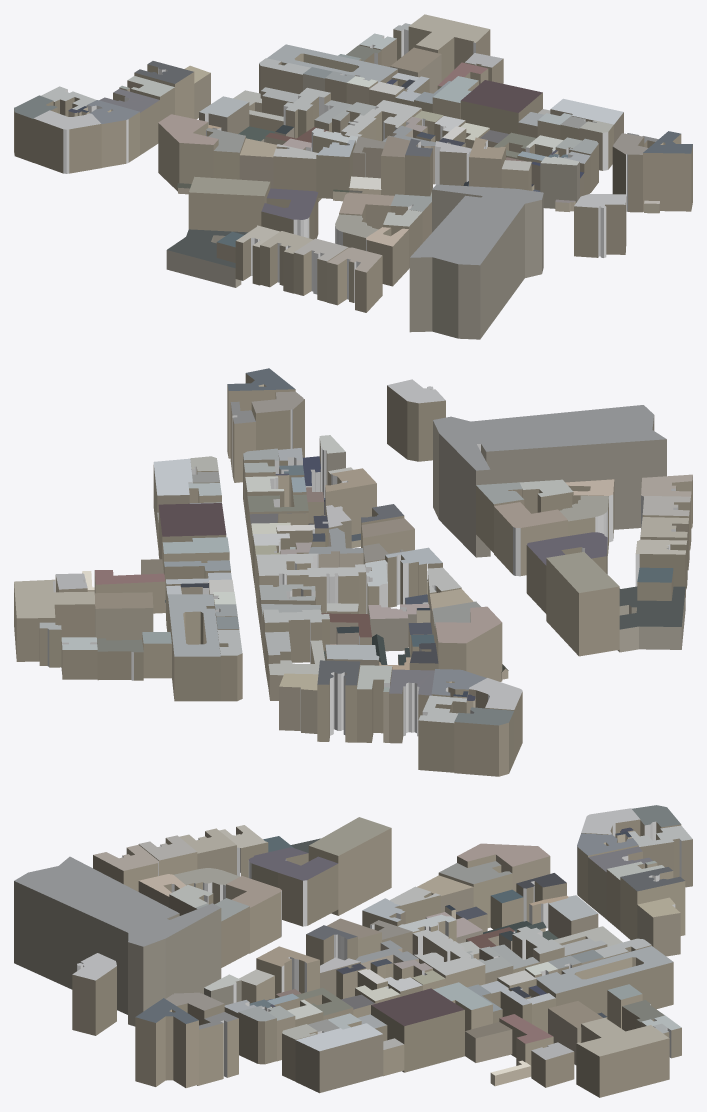
3 views of the same model, one above another, from view 1: azimuth 30°, elevation 25°; view 2: azimuth 150°, elevation 25°; view 3: azimuth 270°, elevation 25° (orthographic). The views are drawn at different scales.
Visible parts, largest first — view 1: tuile; view 2: tuile; view 3: tuile.
Boxes of the visible parts, bbox=[...] form: tuile: bbox=[14, 14, 692, 339]; tuile: bbox=[14, 368, 692, 776]; tuile: bbox=[14, 805, 692, 1097].
Bounding box in the file's own units: 253 × 42.82 × 294.
